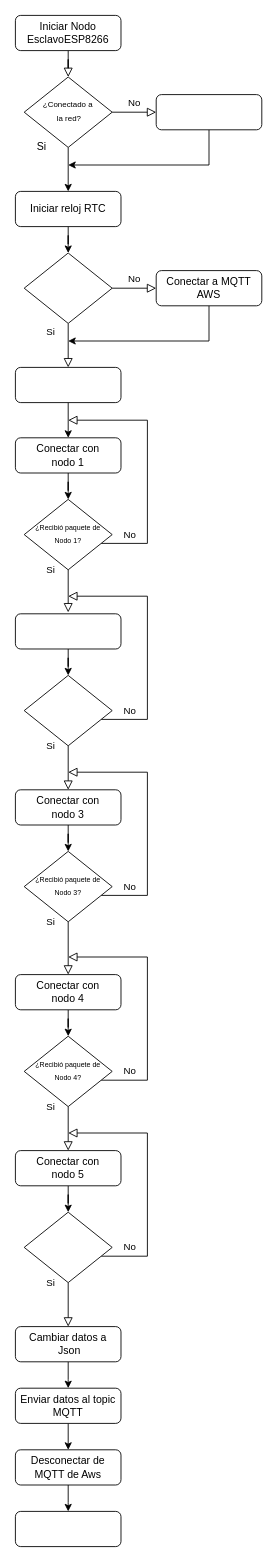
This 277x1562 diagram has some shape labels left out. Here are the shapes that lost their labels. From the top down, the centre of each, then its label:
the point at 208,112: Conectar a red wifi
the point at 67,287: ¿Conectado a MQTT?
the point at 68,385: Iniciar Comunicación
the point at 68,631: Conectar con nodo 2
the point at 67,710: ¿Recibió paquete de Nodo 2?
the point at 67,1247: ¿Recibió paquete de Nodo 5?
the point at 68,1529: Apagar y Dormir esp8266
